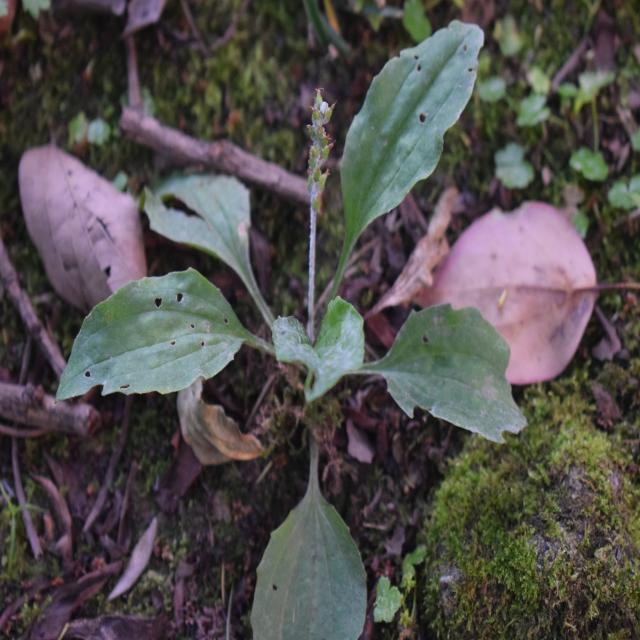plantain: (111, 79, 515, 536)
